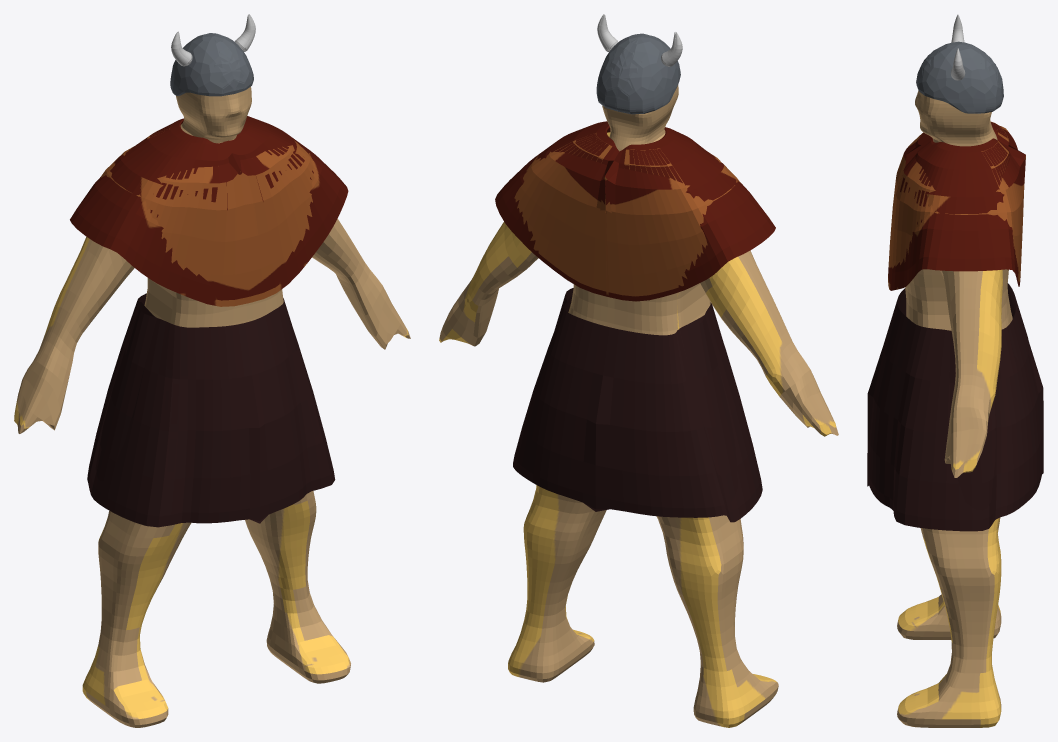
Rendered from Male enemy.fbx.
3 views of the same model, side by side, from view 1: azimuth 30°, elevation 25°; view 2: azimuth 150°, elevation 25°; view 3: azimuth 270°, elevation 25° (orthographic). The views are drawn at different scales.
Parts seen in each view (by area): view 1: Body; view 2: Body; view 3: Body.
Part boxes in pixels (x1,y1,x2,y2): Body: [14, 14, 410, 727]; Body: [439, 14, 838, 727]; Body: [867, 14, 1043, 727].
Bounding box in the file's own units: 1032 × 1669 × 413.
